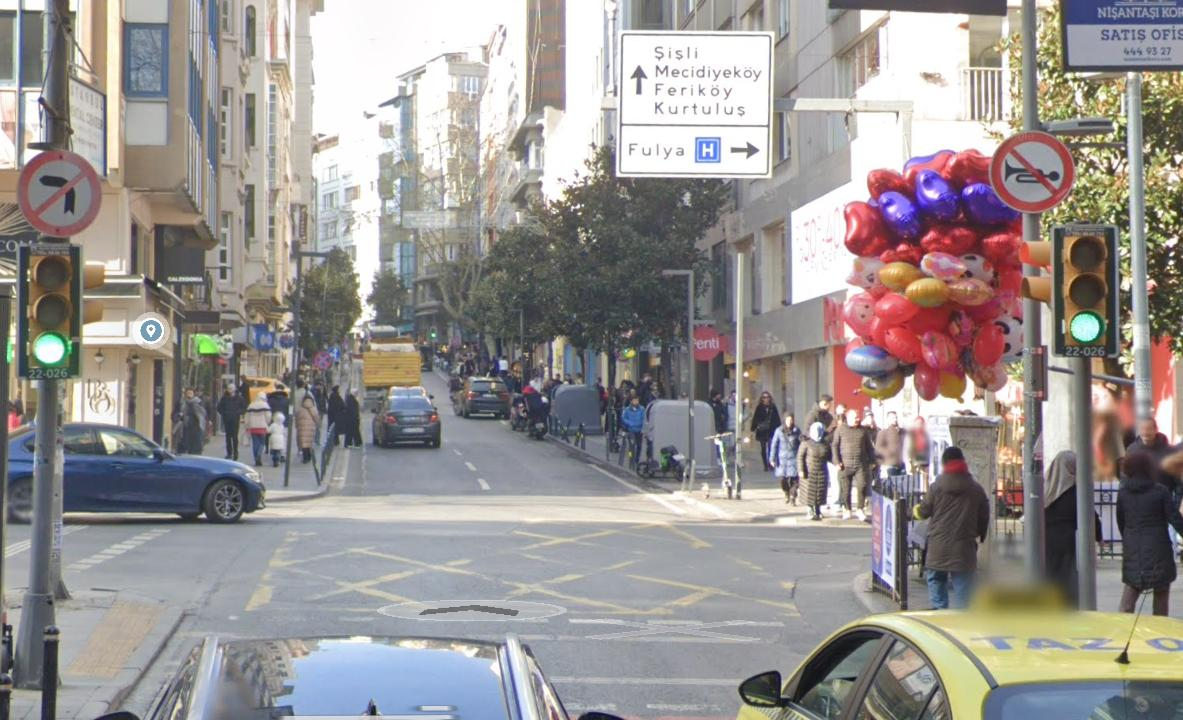greenlight: (1058, 229, 1112, 342), (26, 251, 71, 369)
leftturnsareforbidden: (22, 153, 98, 236)
